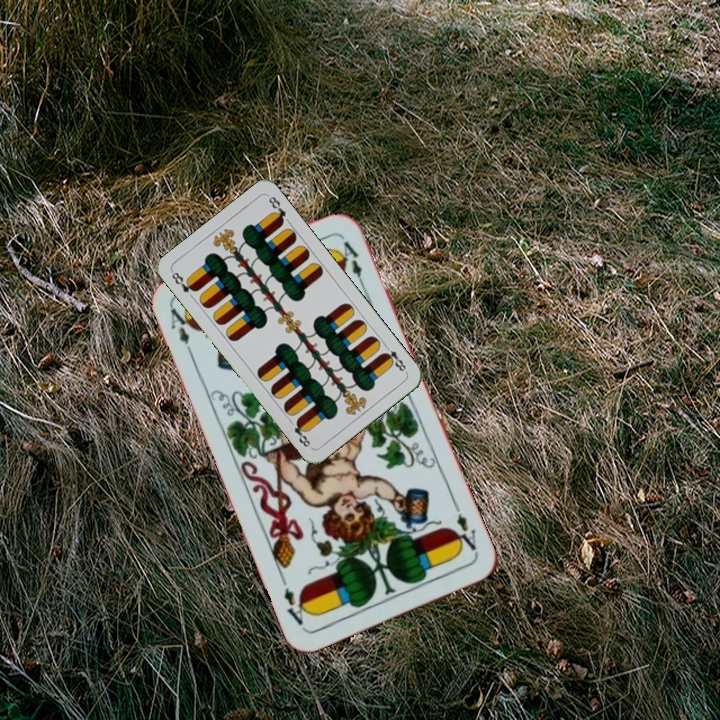E8: (379, 340, 409, 375), (167, 268, 199, 296)
EA: (449, 501, 481, 558), (166, 303, 196, 360)
